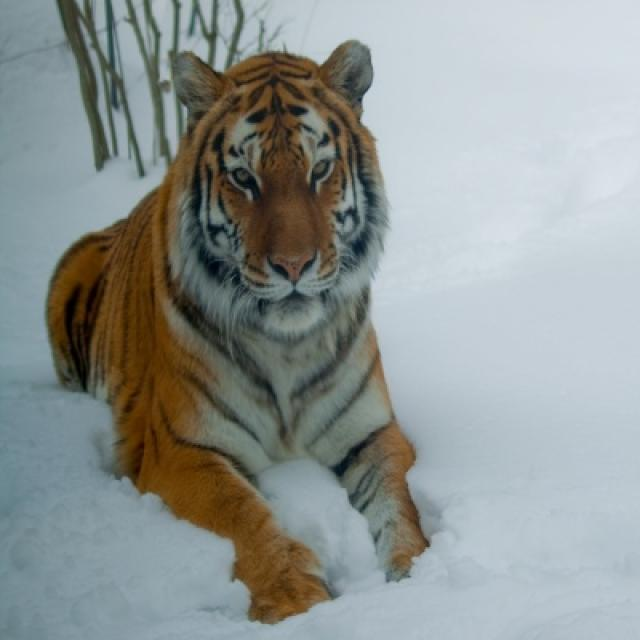Tiger: (39, 34, 433, 618)
